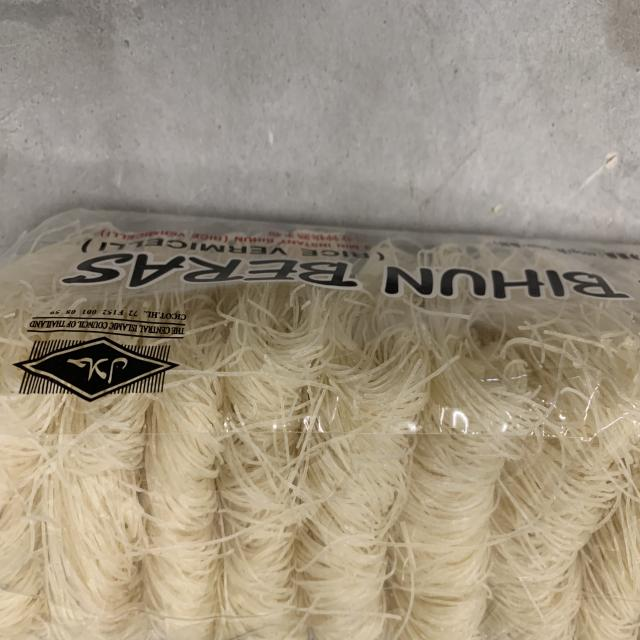object_name: (6, 218, 639, 640)
